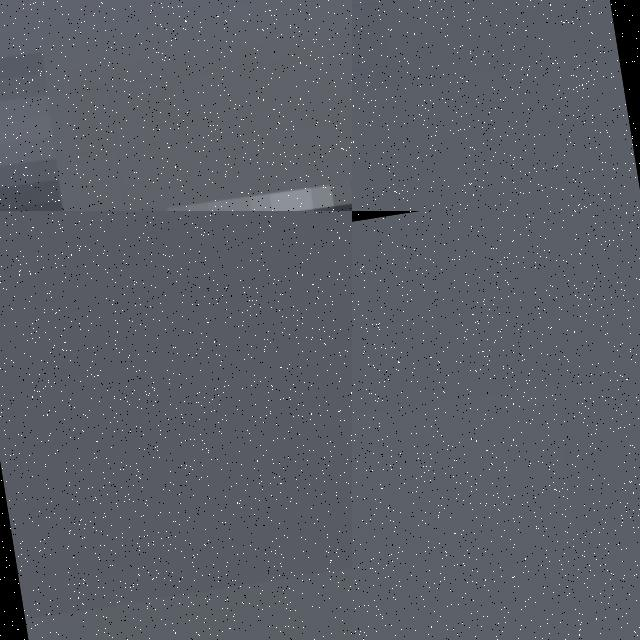drone: (0, 0, 352, 211)
